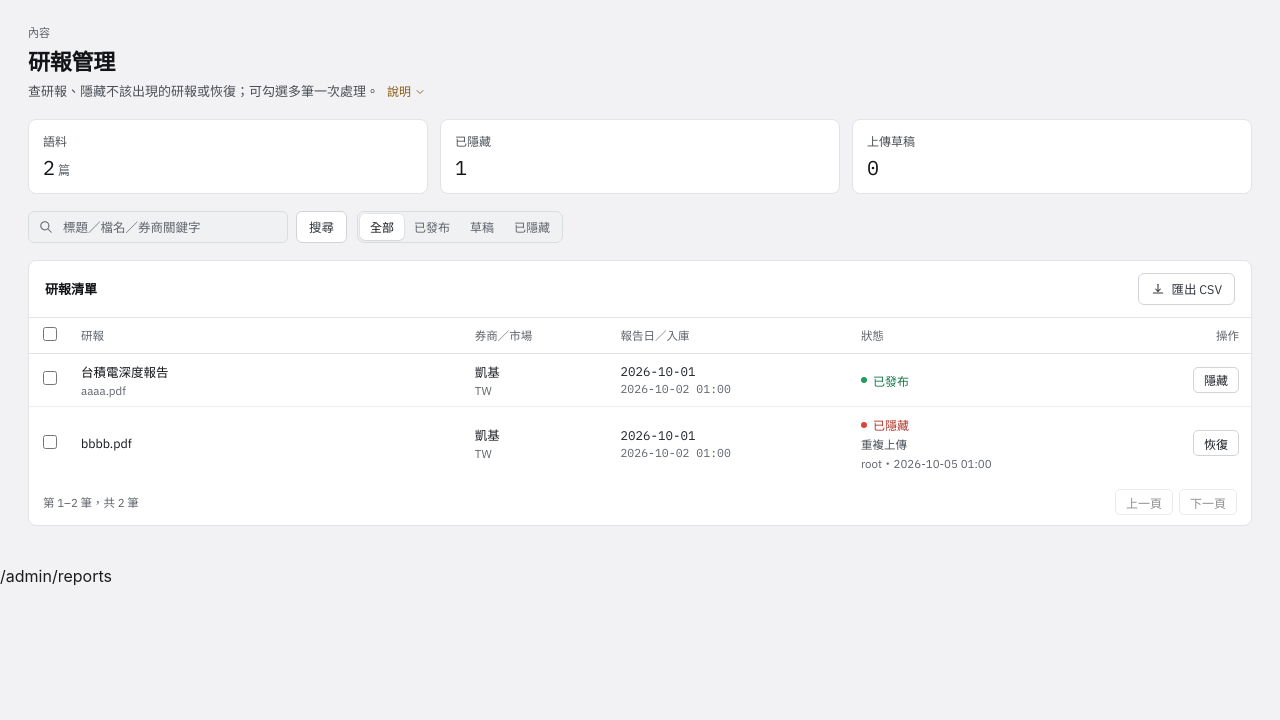
列內的勾選框與按鈕不會開抽屜
This screenshot has width=1280, height=720.
Step 1. Click the checkbox named "選取「台積電深度報告」" → point(50, 378), box [43,371,57,385]
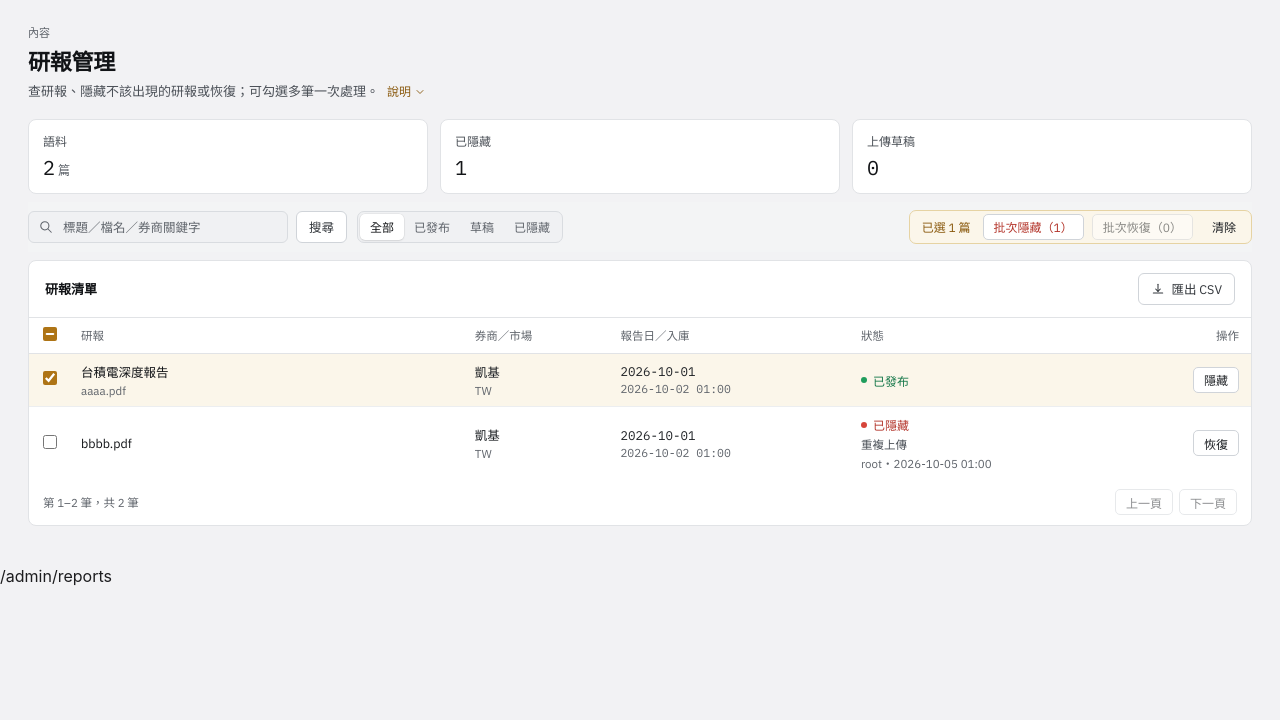
Step 2. Click the button "隱藏" → point(1216, 380), box [1193,367,1239,393]
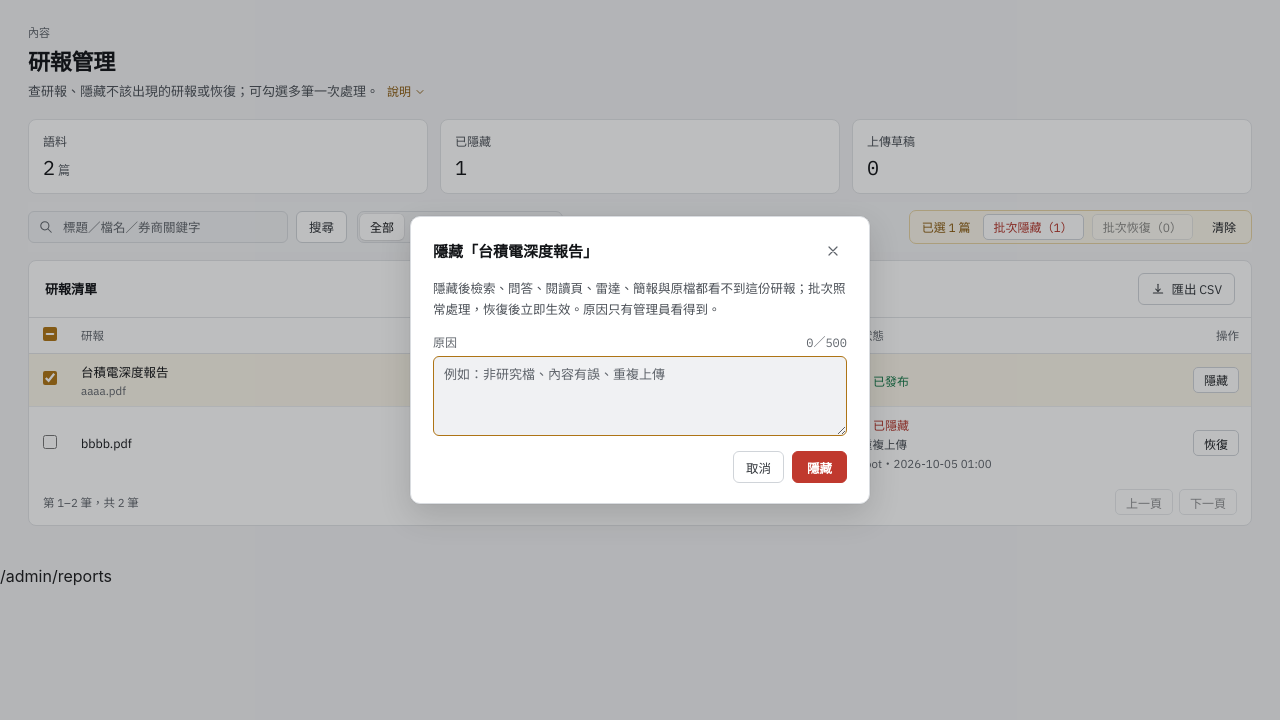
Expected: the text with test id "where" reads "/admin/reports", [0,566,112,586]
Now the dialog "隱藏「台積電深度報告」" is shown, box [410,216,870,504]
